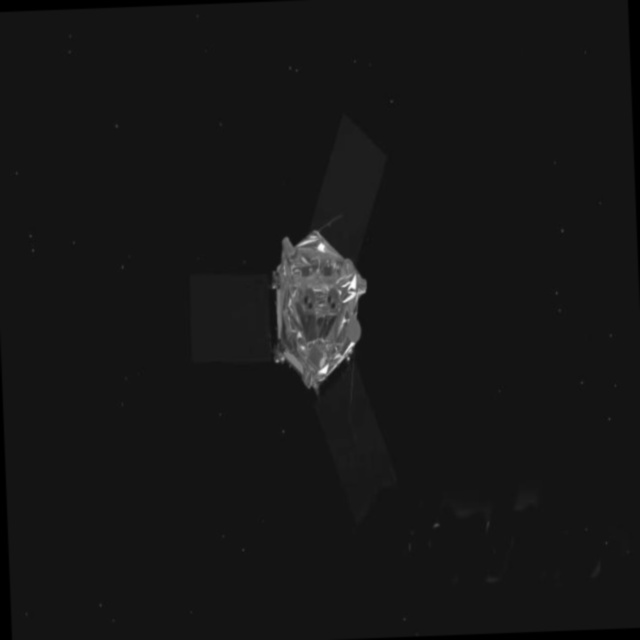satellite: (217, 188, 400, 440)
